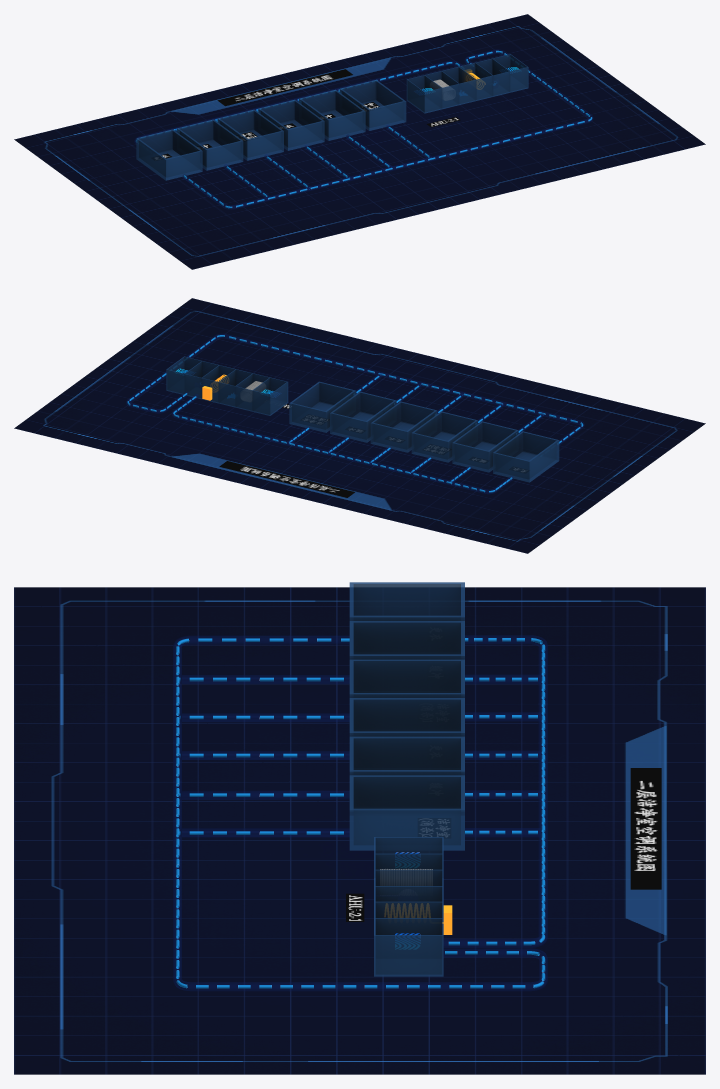
The model's file is Air_ConditioningSystemFlowChart_AHU_2_1.FBX.
3 renders of one model, top to bottom at view 1: azimuth 30°, elevation 25°; view 2: azimuth 150°, elevation 25°; view 3: azimuth 270°, elevation 25°, orthographic. The views are drawn at different scales.
Visible parts, largest first — view 1: BG, Room, MAU_Body, PF_Pipe, RoomName, PF_Wind, RA_Pipe; view 2: BG, Room, MAU_Body, PF_Pipe, RA_Pipe, RoomName, PF_Wind, RF_Wind; view 3: BG, Room, PF_Pipe, MAU_Body, RA_Pipe, PF_Wind, RoomName, RF_Wind, Coil.
Part boxes in pixels (<box>): BG: <box>14,14,705,269</box>; Room: <box>136,79,406,180</box>; MAU_Body: <box>406,54,528,113</box>; PF_Pipe: <box>182,49,593,209</box>; RoomName: <box>152,69,460,160</box>; PF_Wind: <box>183,50,592,208</box>; RA_Pipe: <box>134,61,462,143</box>; BG: <box>14,298,705,553</box>; Room: <box>289,381,559,482</box>; MAU_Body: <box>166,356,288,415</box>; PF_Pipe: <box>126,334,584,444</box>; RA_Pipe: <box>172,394,513,493</box>; RoomName: <box>219,404,528,497</box>; PF_Wind: <box>127,335,583,443</box>; RF_Wind: <box>173,396,512,492</box>; BG: <box>14,587,705,1074</box>; Room: <box>349,582,464,850</box>; PF_Pipe: <box>173,636,547,990</box>; MAU_Body: <box>374,837,443,976</box>; RA_Pipe: <box>443,635,547,947</box>; PF_Wind: <box>176,638,545,988</box>; RoomName: <box>346,768,661,921</box>; RF_Wind: <box>448,638,545,945</box>; Coil: <box>380,869,432,885</box>.
Bounding box in the file's own units: 250 × 14.82 × 150.
